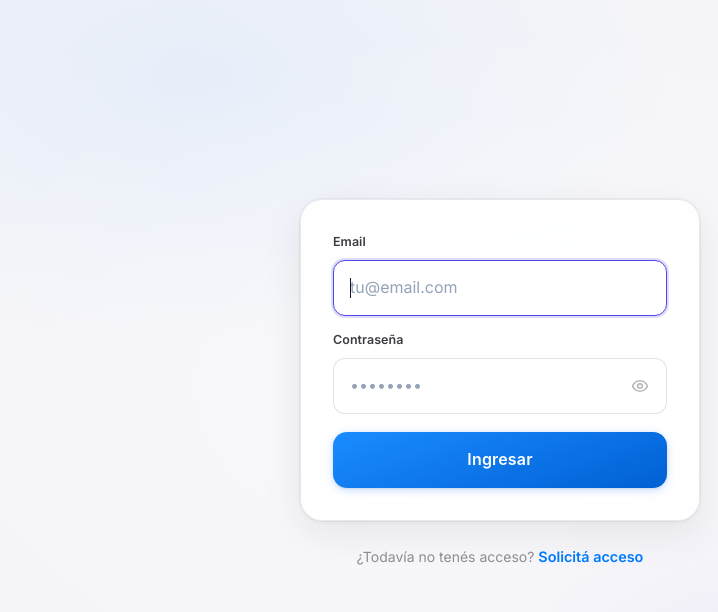
PRE-BETA-2D · PortalLogin › U3. credenciales inválidas → sin oferta de reenvío
Step 1. Type "mayorista-qa@example.test" into the field with placeholder "tu@email.com" → coordinates (500, 288), box [333,260,667,316]
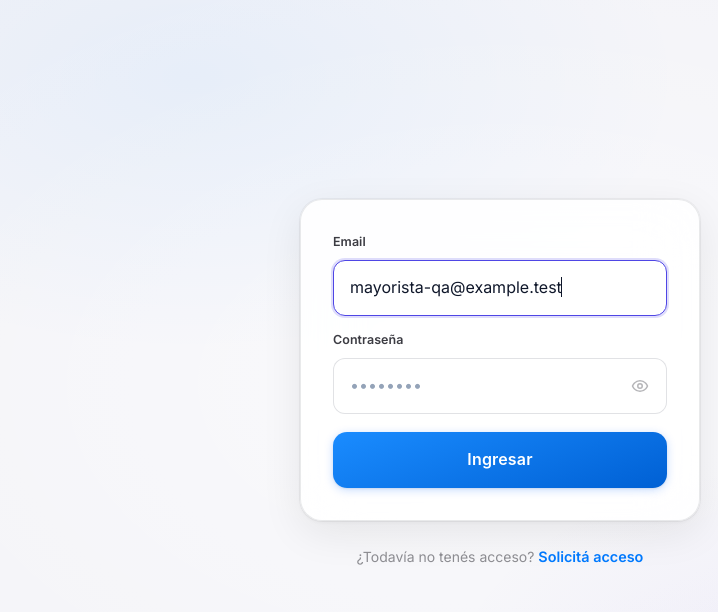
Step 2. Type "mala-123" into the password field with placeholder "••••••••" → coordinates (500, 386), box [333,358,667,414]
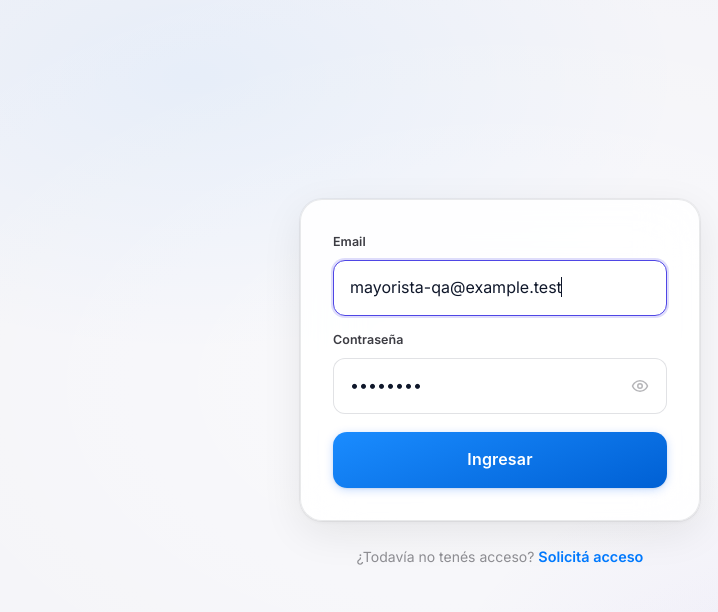
Step 3. Submit the form, box [333,232,667,488]
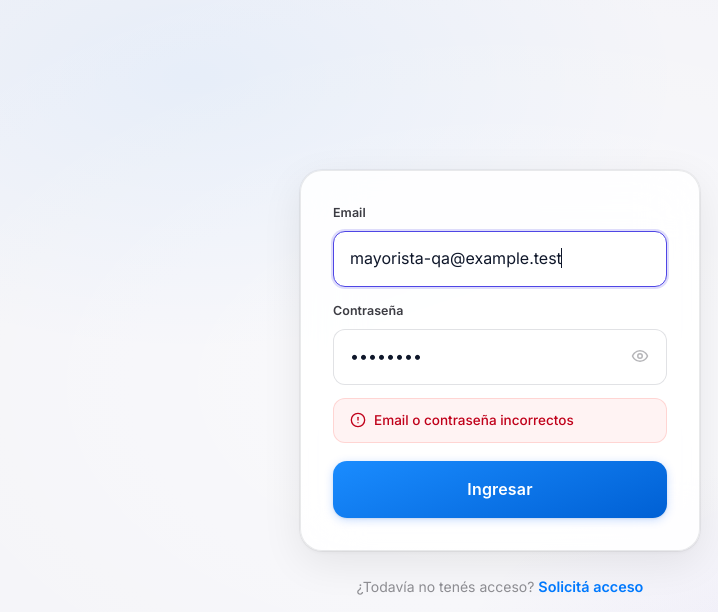
Check: the text with test id "portal-login-error" reads "Email o contraseña incorrectos", box [374,412,574,428]
